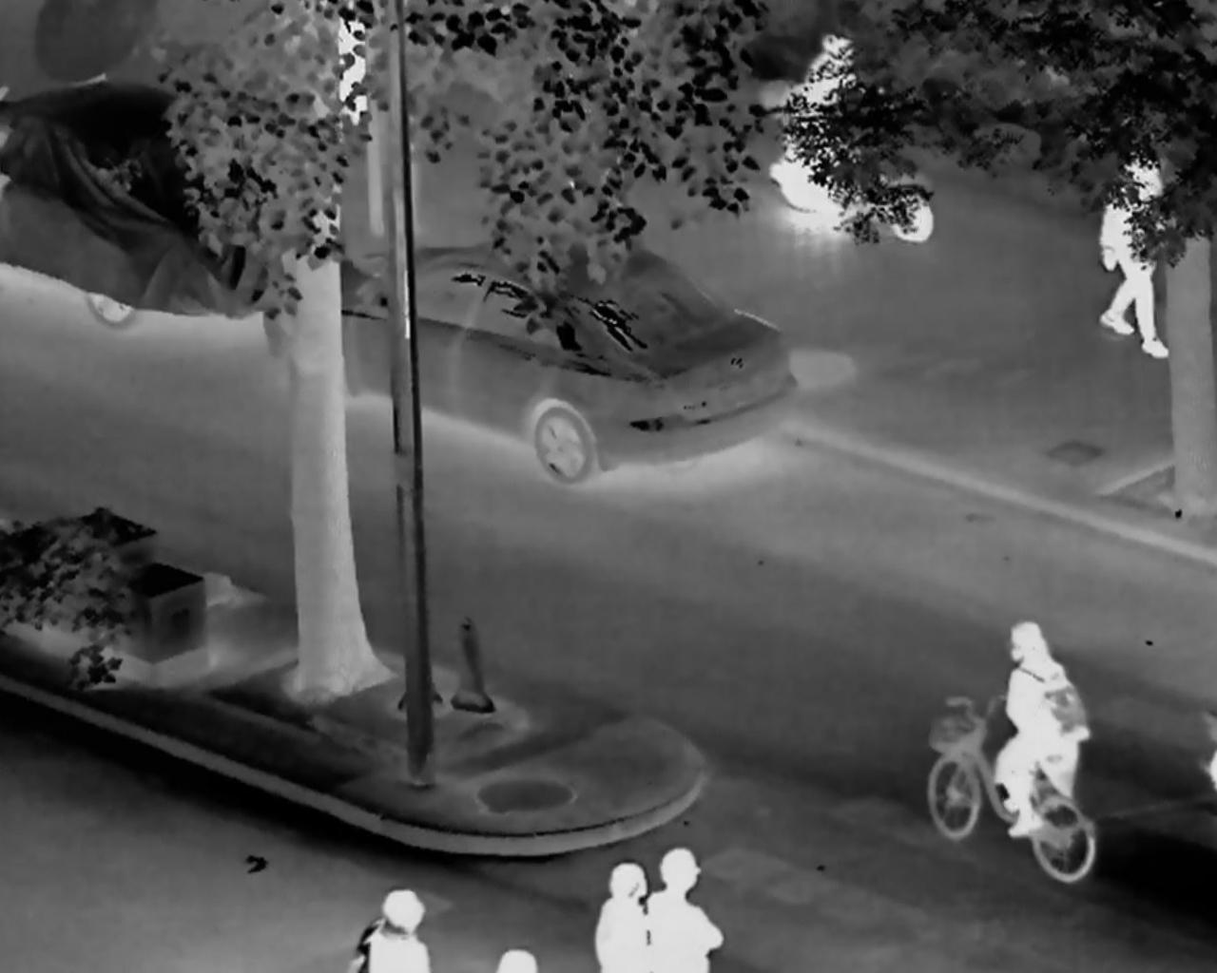person: (1000, 621, 1090, 836), (796, 28, 885, 214), (1101, 143, 1174, 360), (644, 845, 721, 973), (593, 862, 653, 973), (355, 887, 428, 973), (493, 945, 538, 973)
